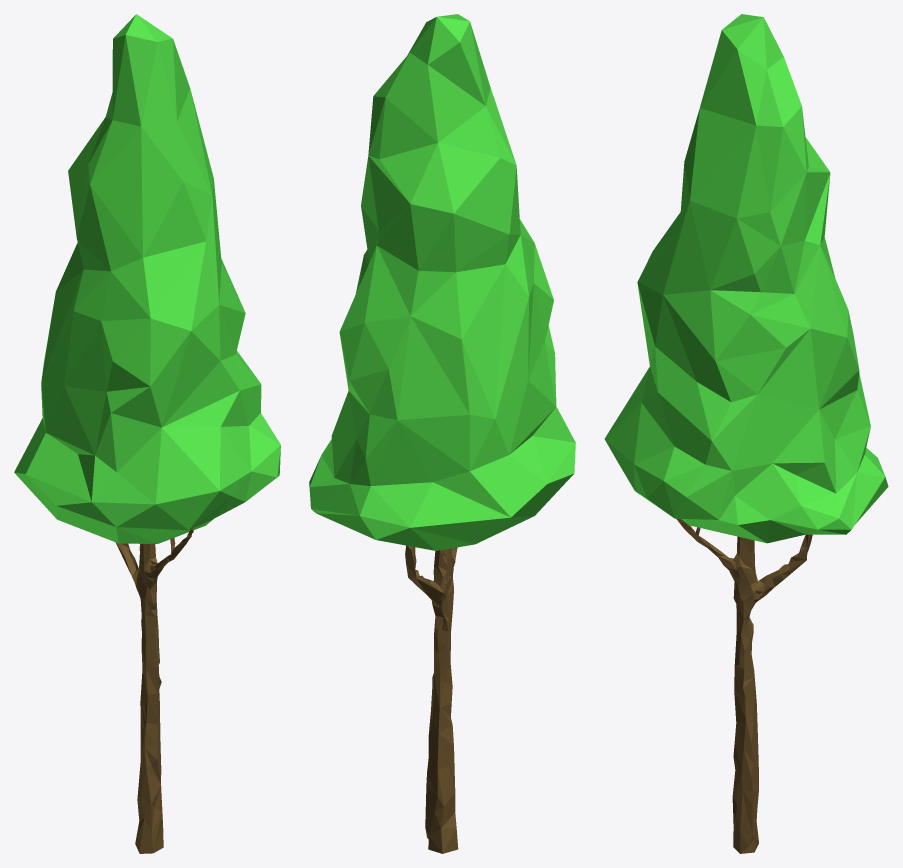
Rendered from LowPolyNature.glb.
3 renders of one model, left to right at view 1: azimuth 30°, elevation 25°; view 2: azimuth 150°, elevation 25°; view 3: azimuth 270°, elevation 25°, orthographic.
Parts seen in each view (by area): view 1: Trunk; view 2: Trunk; view 3: Trunk.
Part boxes in pixels (x1,y1,x2,y2): Trunk: (14, 14, 280, 853); Trunk: (309, 14, 575, 853); Trunk: (604, 14, 888, 853).
Bounding box in the file's own units: 1.28 × 4.68 × 1.45.
